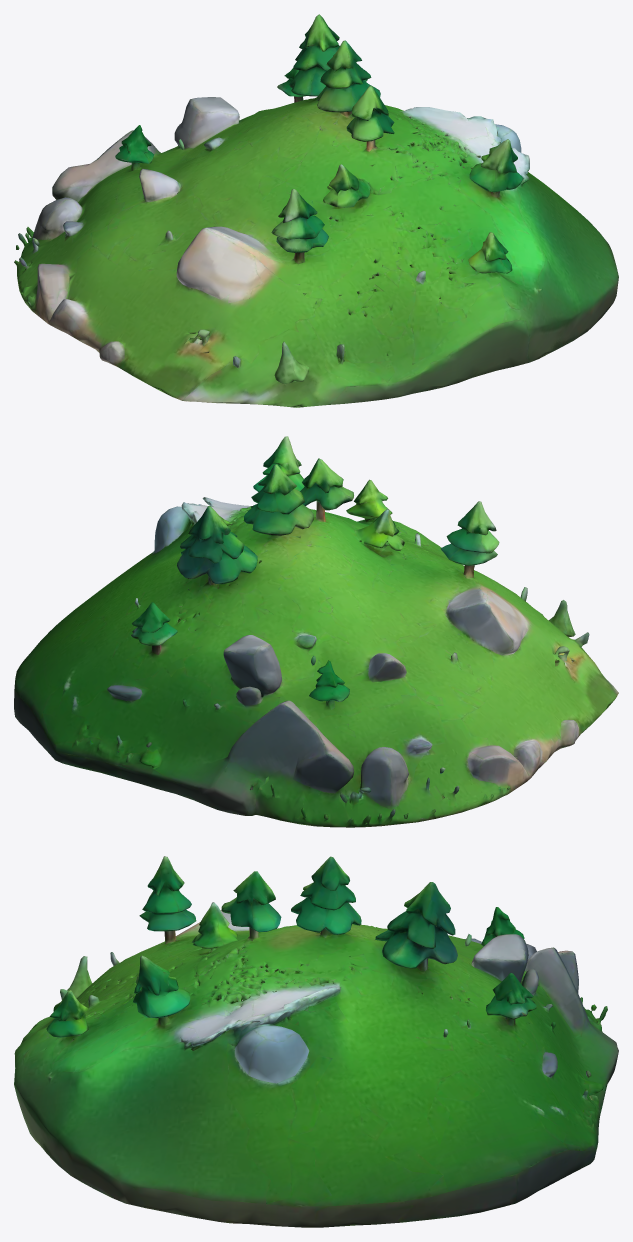
File: hill-base.glb
The picture shows the model from 3 angles, top to bottom: view 1: azimuth 30°, elevation 25°; view 2: azimuth 150°, elevation 25°; view 3: azimuth 270°, elevation 25°; orthographic projection. The views are drawn at different scales.
Parts seen in each view (by area): view 1: geometry_0; view 2: geometry_0; view 3: geometry_0.
Boxes of the visible parts, left/top/right/bottom form: geometry_0: left=14, top=14, right=618, bottom=407; geometry_0: left=14, top=436, right=618, bottom=827; geometry_0: left=14, top=856, right=618, bottom=1227.
Size of the model in its own units: 26.63 by 12 by 25.8.
Materials: 1 (1 with a texture image).
